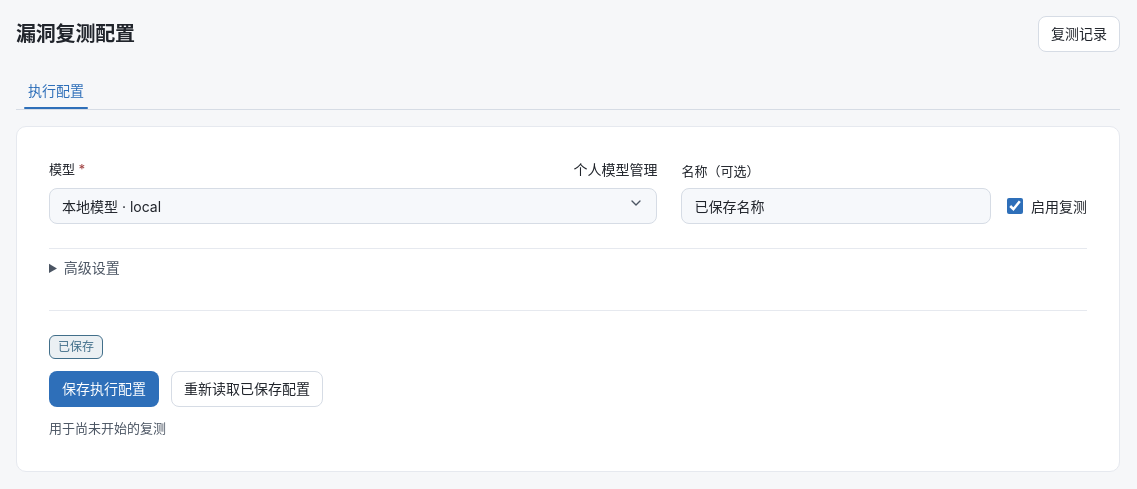
Test: 个人复测执行配置 › 迟到保存不能串到同租户新身份或清掉该身份的新编辑
The width and height of the screenshot is (1137, 489).
Replace the text in the field labelled "名称（可选）" with "旧身份提交": (836, 206) [681,188,991,224]
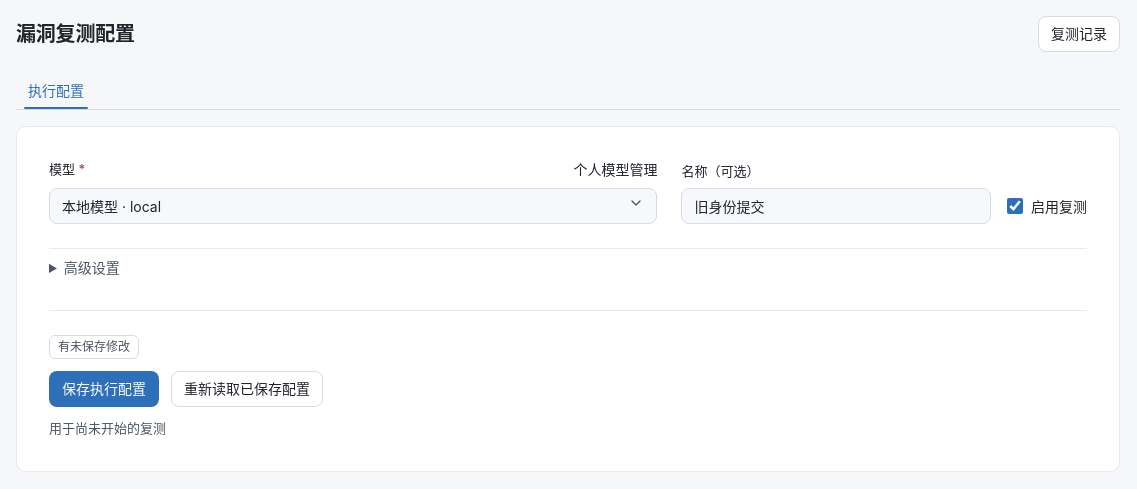
Submit the form with class "config-form", box [49,159,1087,438]
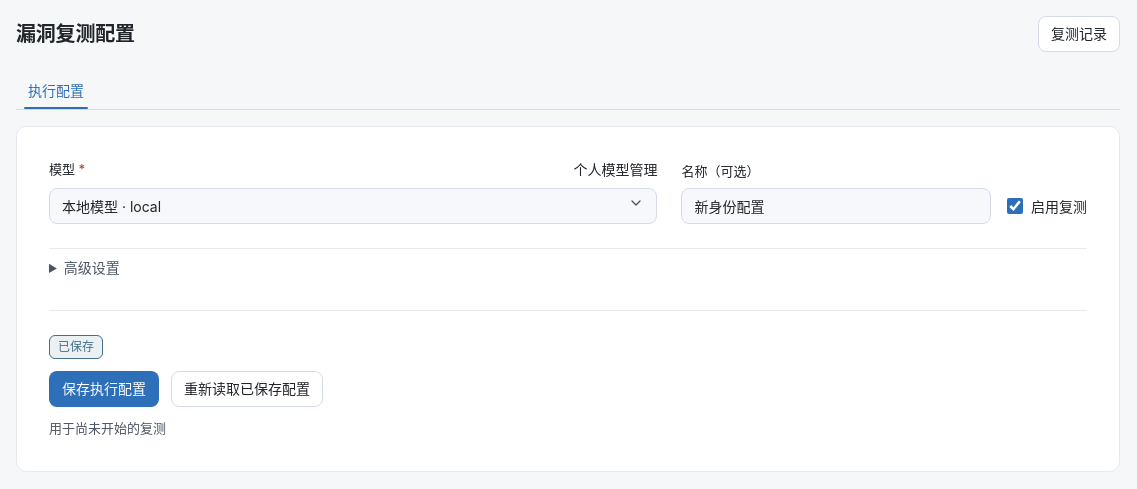
Replace the text in the field labelled "名称（可选）" with "新身份编辑": (836, 206) [681,188,991,224]
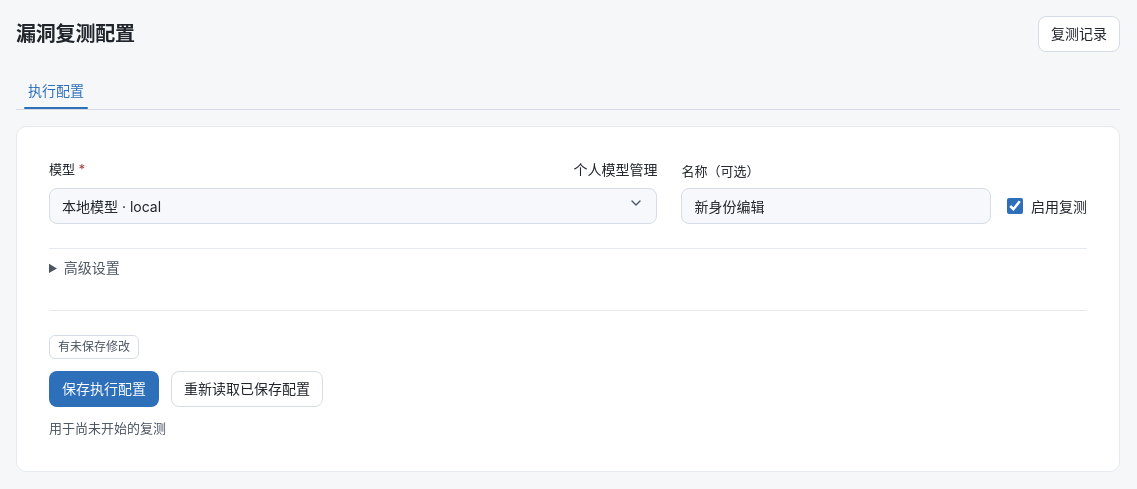
Now the text "有未保存修改" is shown, box [49,335,139,359]
